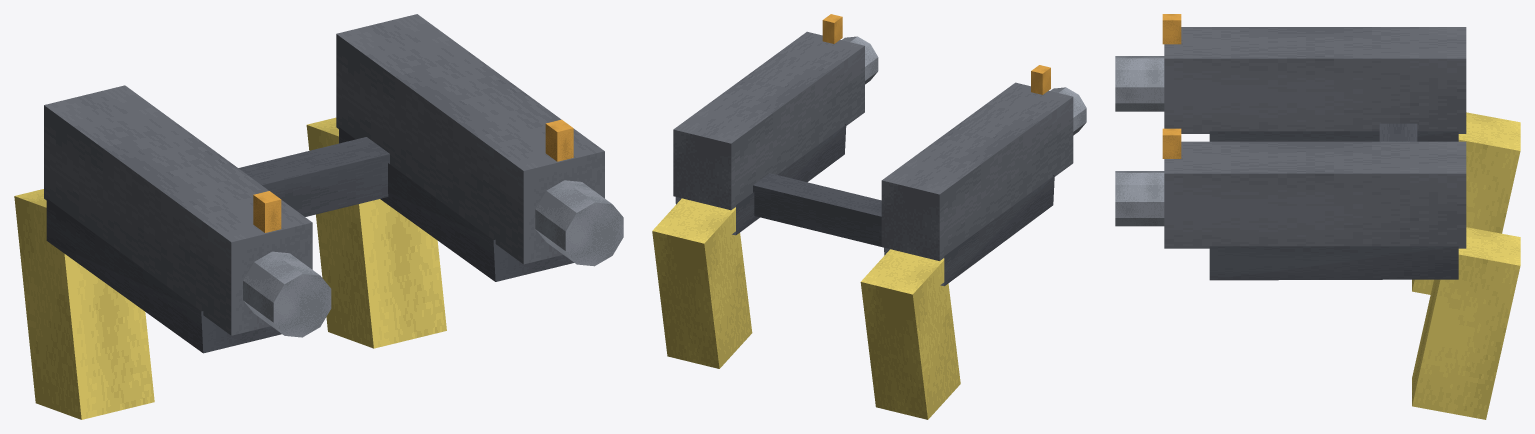
Rendered from weapon_akimbo.glb.
3 renders of one model, left to right at view 1: azimuth 30°, elevation 25°; view 2: azimuth 150°, elevation 25°; view 3: azimuth 270°, elevation 25°, orthographic. The views are drawn at different scales.
Visible parts, largest first — view 1: weapon_akimbo; view 2: weapon_akimbo; view 3: weapon_akimbo.
Part boxes in pixels (x1,y1,x2,y2): weapon_akimbo: (14,14,623,419); weapon_akimbo: (652,14,1086,419); weapon_akimbo: (1115,14,1520,419).
Size of the model in its own units: 0.93 by 0.8003 by 1.07.
Materials: 1 (1 with a texture image).
